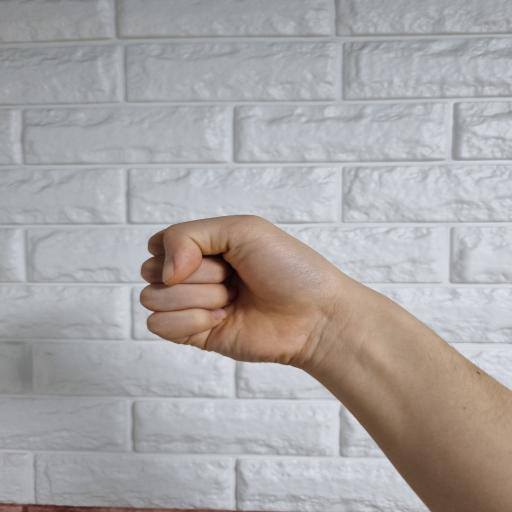Rock: (140, 214, 363, 378)
